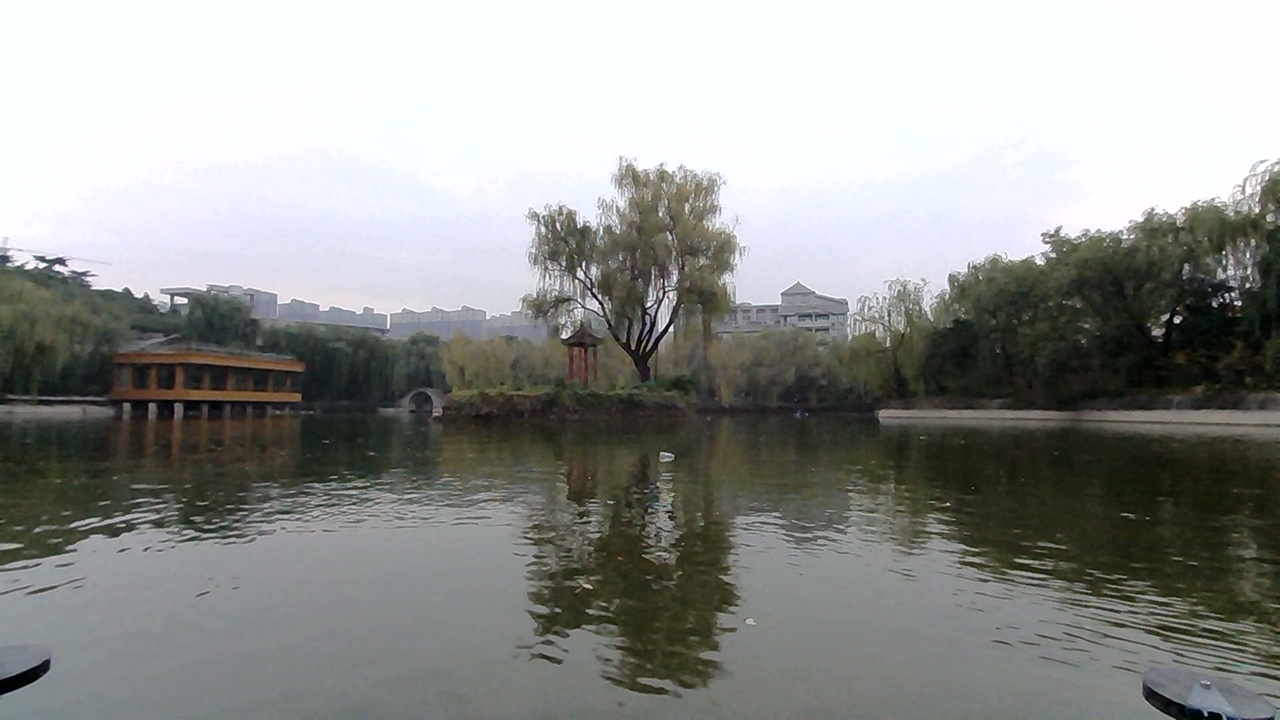bottle: (647, 434, 702, 466)
